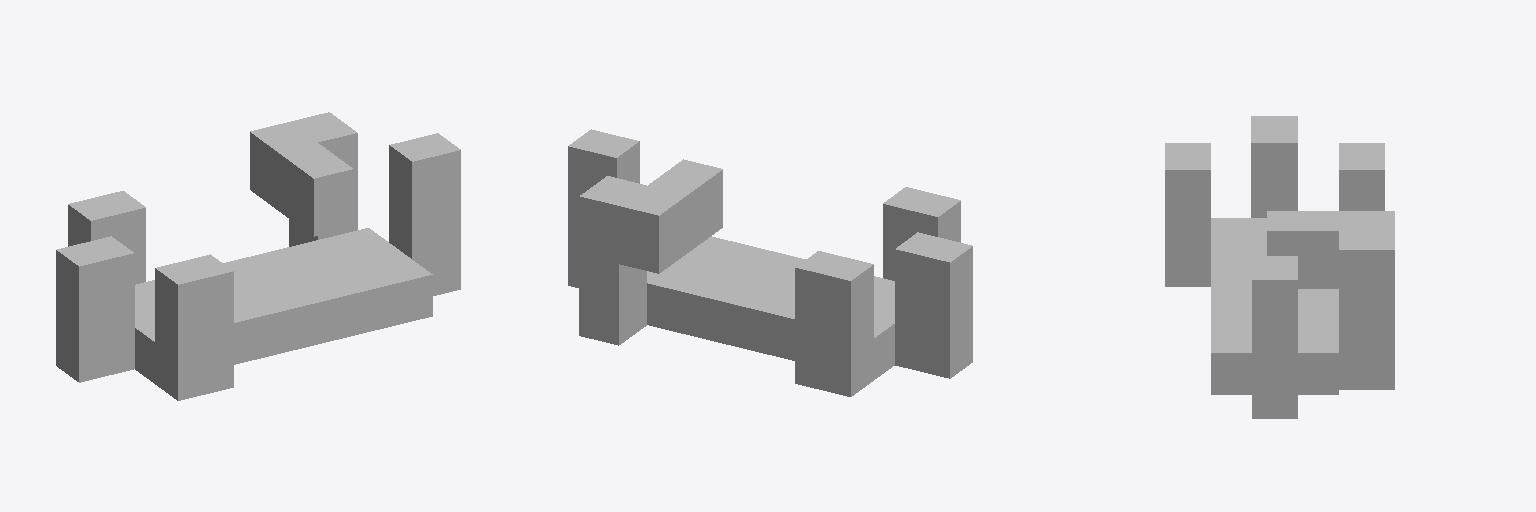
File: Distractor_07.obj
3 views of the same model, side by side, from view 1: azimuth 30°, elevation 25°; view 2: azimuth 150°, elevation 25°; view 3: azimuth 270°, elevation 25° (orthographic).
Parts seen in each view (by area): view 1: mesh_1_Thick-5; view 2: mesh_1_Thick-5; view 3: mesh_1_Thick-5.
Boxes of the visible parts, <box> form: mesh_1_Thick-5: <box>56,112,460,400</box>; mesh_1_Thick-5: <box>568,129,972,396</box>; mesh_1_Thick-5: <box>1165,116,1394,418</box>.
Bounding box in the file's own units: 0.172 × 0.06 × 0.09.